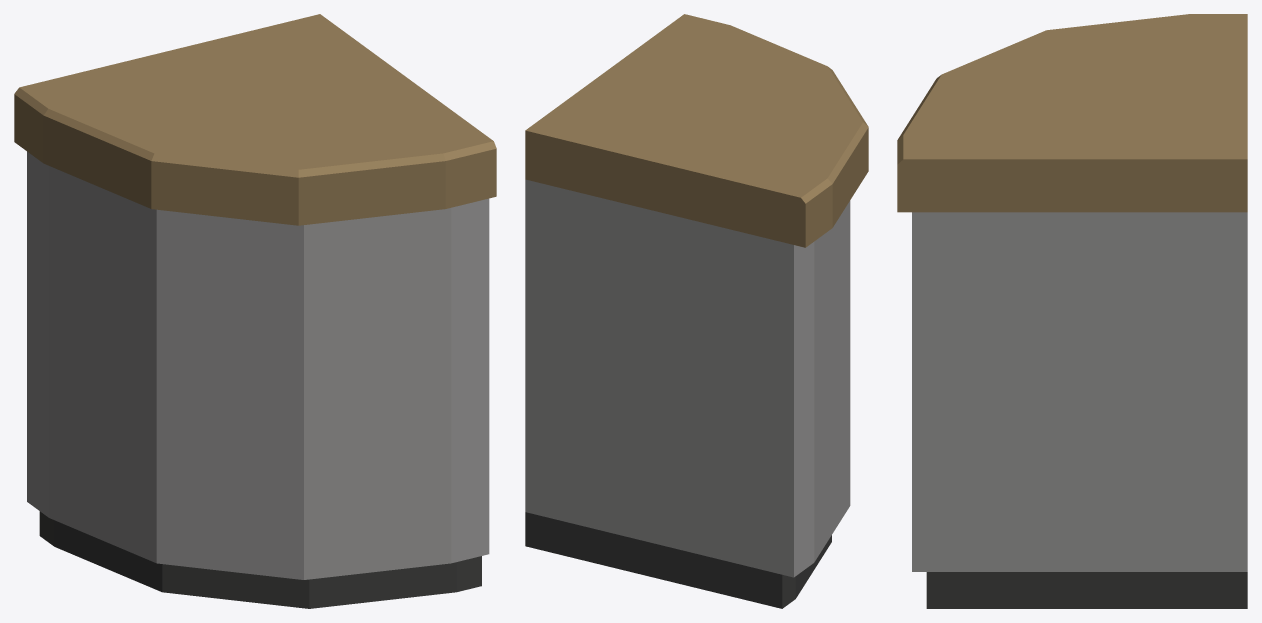
File: SM_Props_Interior_Shop_Counter_Modular_01_Corner.fbx
3 views of the same model, side by side, from view 1: azimuth 30°, elevation 25°; view 2: azimuth 150°, elevation 25°; view 3: azimuth 270°, elevation 25° (orthographic). The views are drawn at different scales.
Visible parts, largest first — view 1: SM_Props_Interior_Shop_Counter_Modular_01_Corner; view 2: SM_Props_Interior_Shop_Counter_Modular_01_Corner; view 3: SM_Props_Interior_Shop_Counter_Modular_01_Corner.
Part boxes in pixels (box(x1,y1,x2,y2)): SM_Props_Interior_Shop_Counter_Modular_01_Corner: box(14, 14, 496, 608); SM_Props_Interior_Shop_Counter_Modular_01_Corner: box(525, 14, 868, 608); SM_Props_Interior_Shop_Counter_Modular_01_Corner: box(897, 14, 1247, 608).
Bounding box in the file's own units: 60 × 85 × 60.
